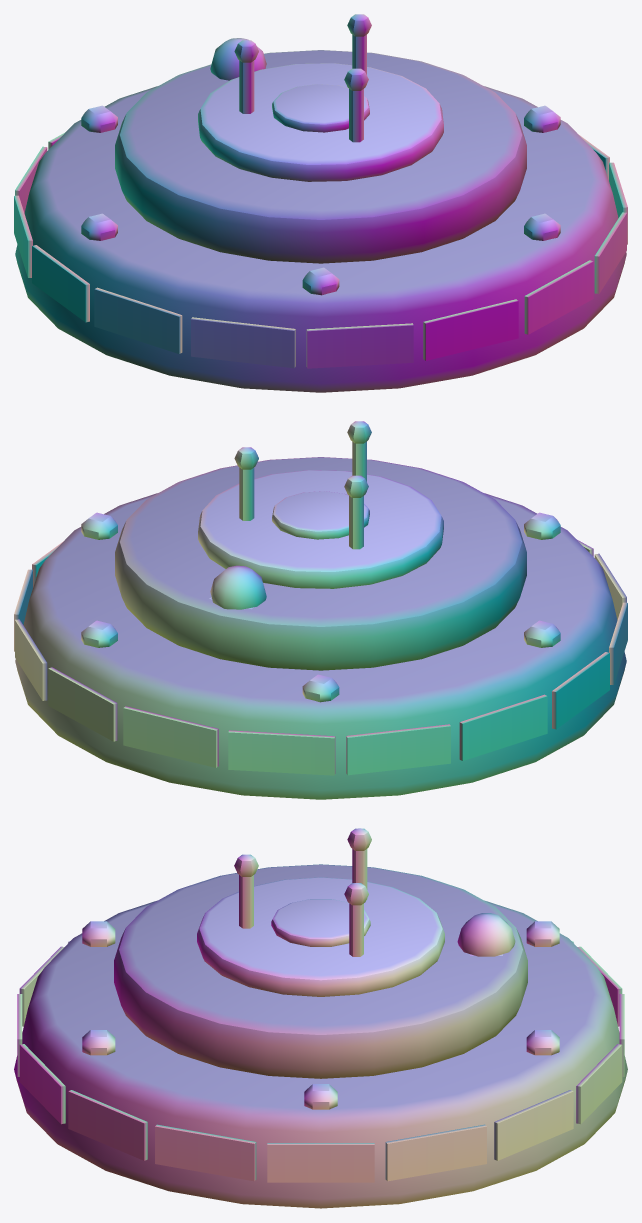
File: gad_mine.glb
3 renders of one model, top to bottom at view 1: azimuth 30°, elevation 25°; view 2: azimuth 150°, elevation 25°; view 3: azimuth 270°, elevation 25°, orthographic.
Parts seen in each view (by area): view 1: mine, light; view 2: mine, light; view 3: mine, light.
Part boxes in pixels (<box>): mine: <box>14,14,627,392</box>; light: <box>210,38,266,80</box>; mine: <box>14,421,627,799</box>; light: <box>210,565,266,609</box>; mine: <box>14,828,627,1208</box>; light: <box>457,913,515,956</box>.
Size of the model in its own units: 0.1484 by 0.061 by 0.1484.
